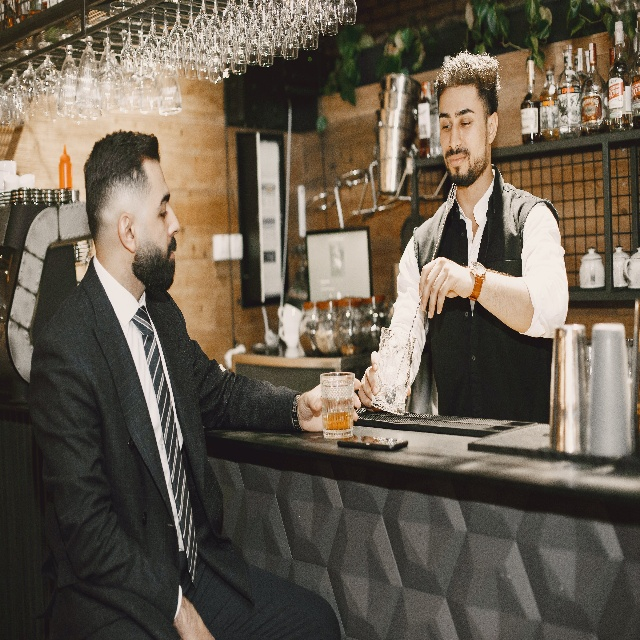Sin_guantes: (297, 374, 361, 432), (418, 256, 472, 318), (359, 350, 410, 413)
